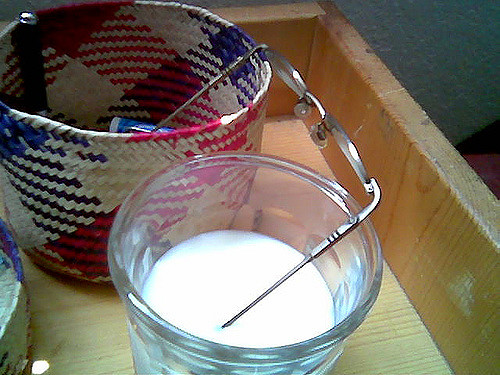glass of milk: (101, 156, 387, 372)
